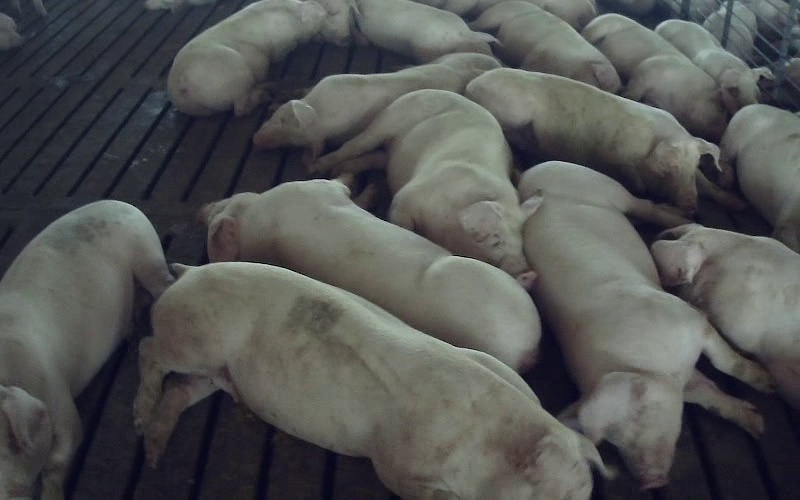pig: (135, 262, 600, 497), (520, 161, 771, 488), (201, 174, 540, 369), (0, 201, 172, 499), (314, 89, 542, 287), (466, 68, 742, 211), (652, 224, 799, 408), (254, 53, 499, 161), (582, 14, 727, 141), (168, 0, 324, 115), (470, 0, 620, 92), (721, 105, 799, 252), (656, 19, 771, 113), (356, 0, 495, 62)
